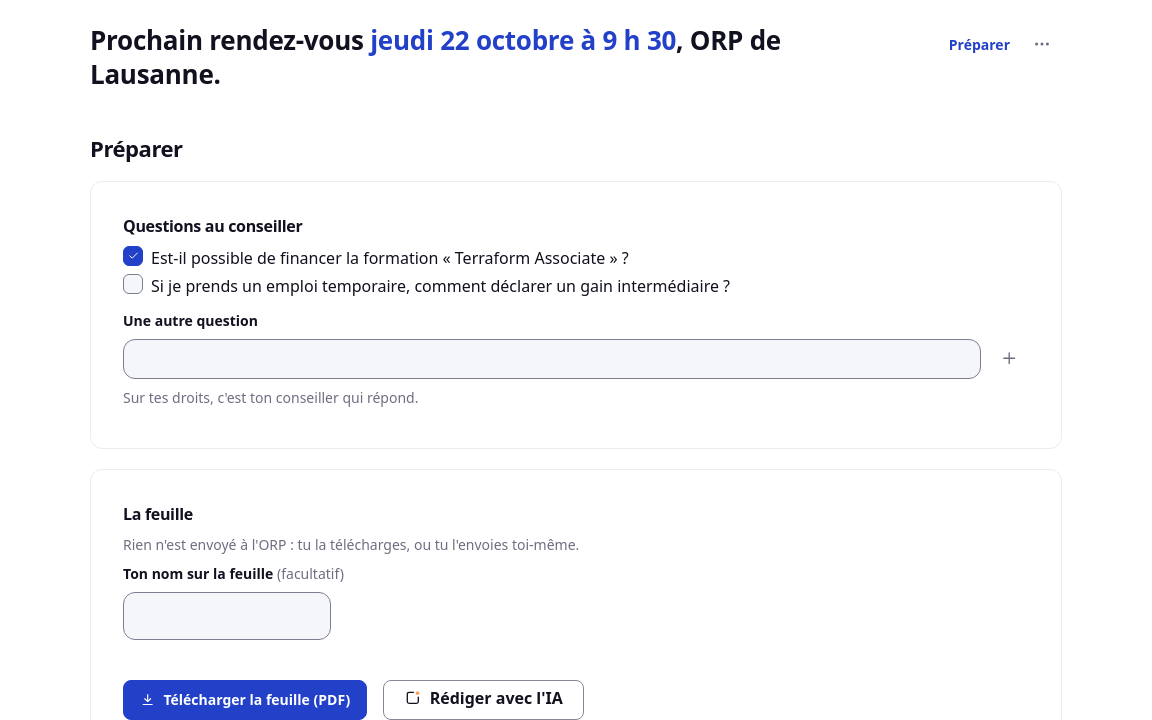
Test: Rendez-vous ORP (docs/83) › le carnet, et le message rédigé par l'IA
Click the button with test id "sheet-write": x=483, y=700 left=383, top=680, right=584, bottom=719
(page scrolled)
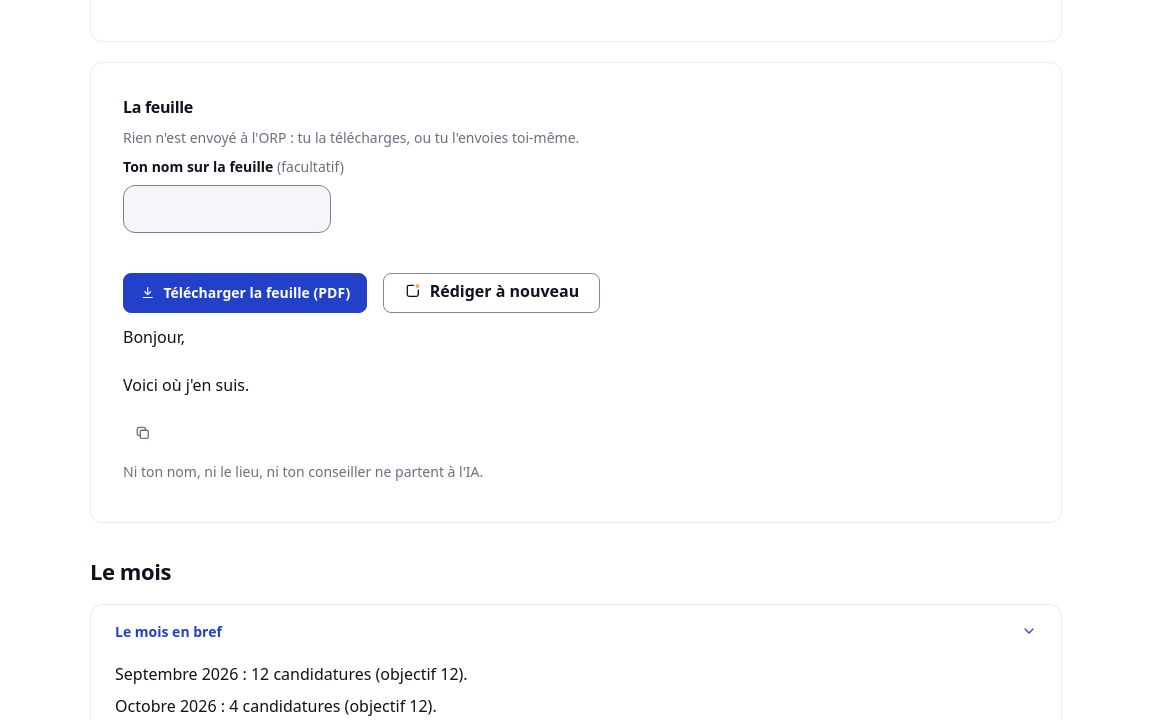
Check: the text with test id "sheet-text" shows "Voici où j'en suis.", box left=123, top=326, right=249, bottom=396
